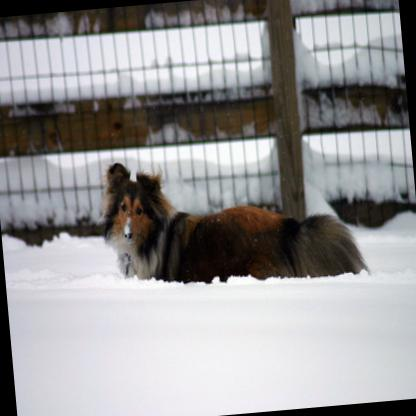Shetland_sheepdog: (93, 136, 374, 300)
